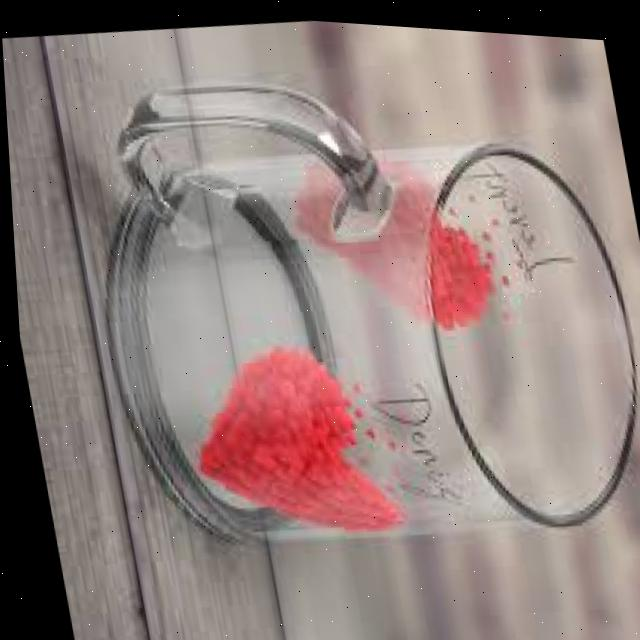Dry: (50, 19, 640, 587)
